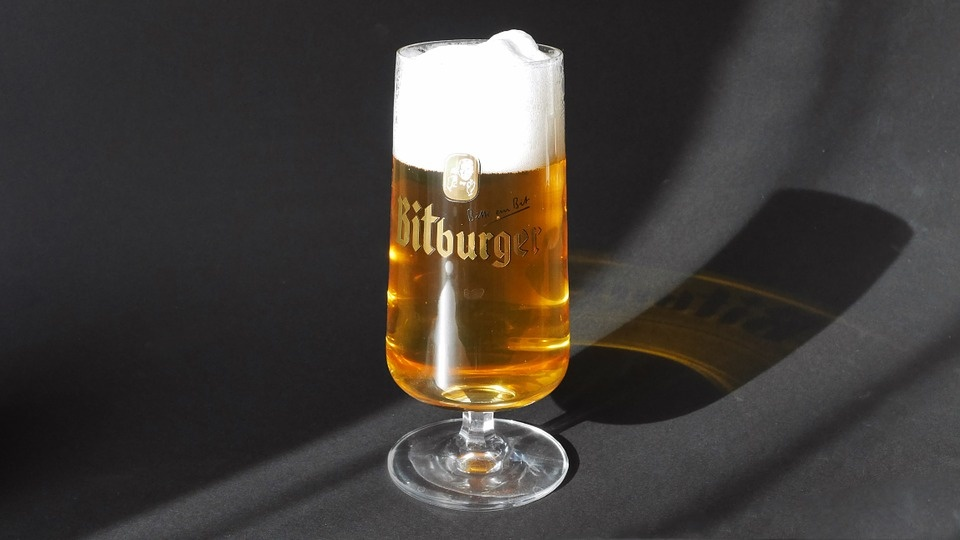glassBeer: (385, 37, 571, 409)
